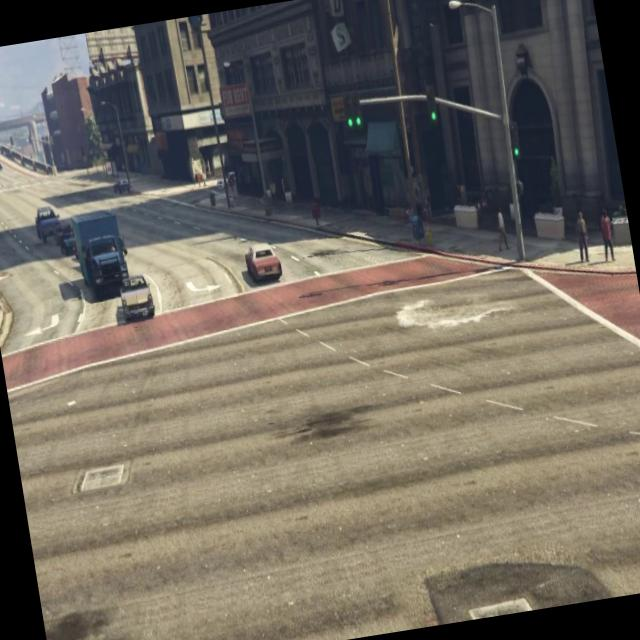Green-Signal: (338, 82, 370, 146), (420, 73, 448, 133), (505, 117, 528, 174)
